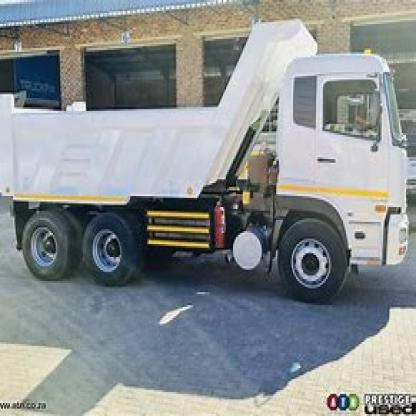dump_truck: (3, 20, 406, 314)
